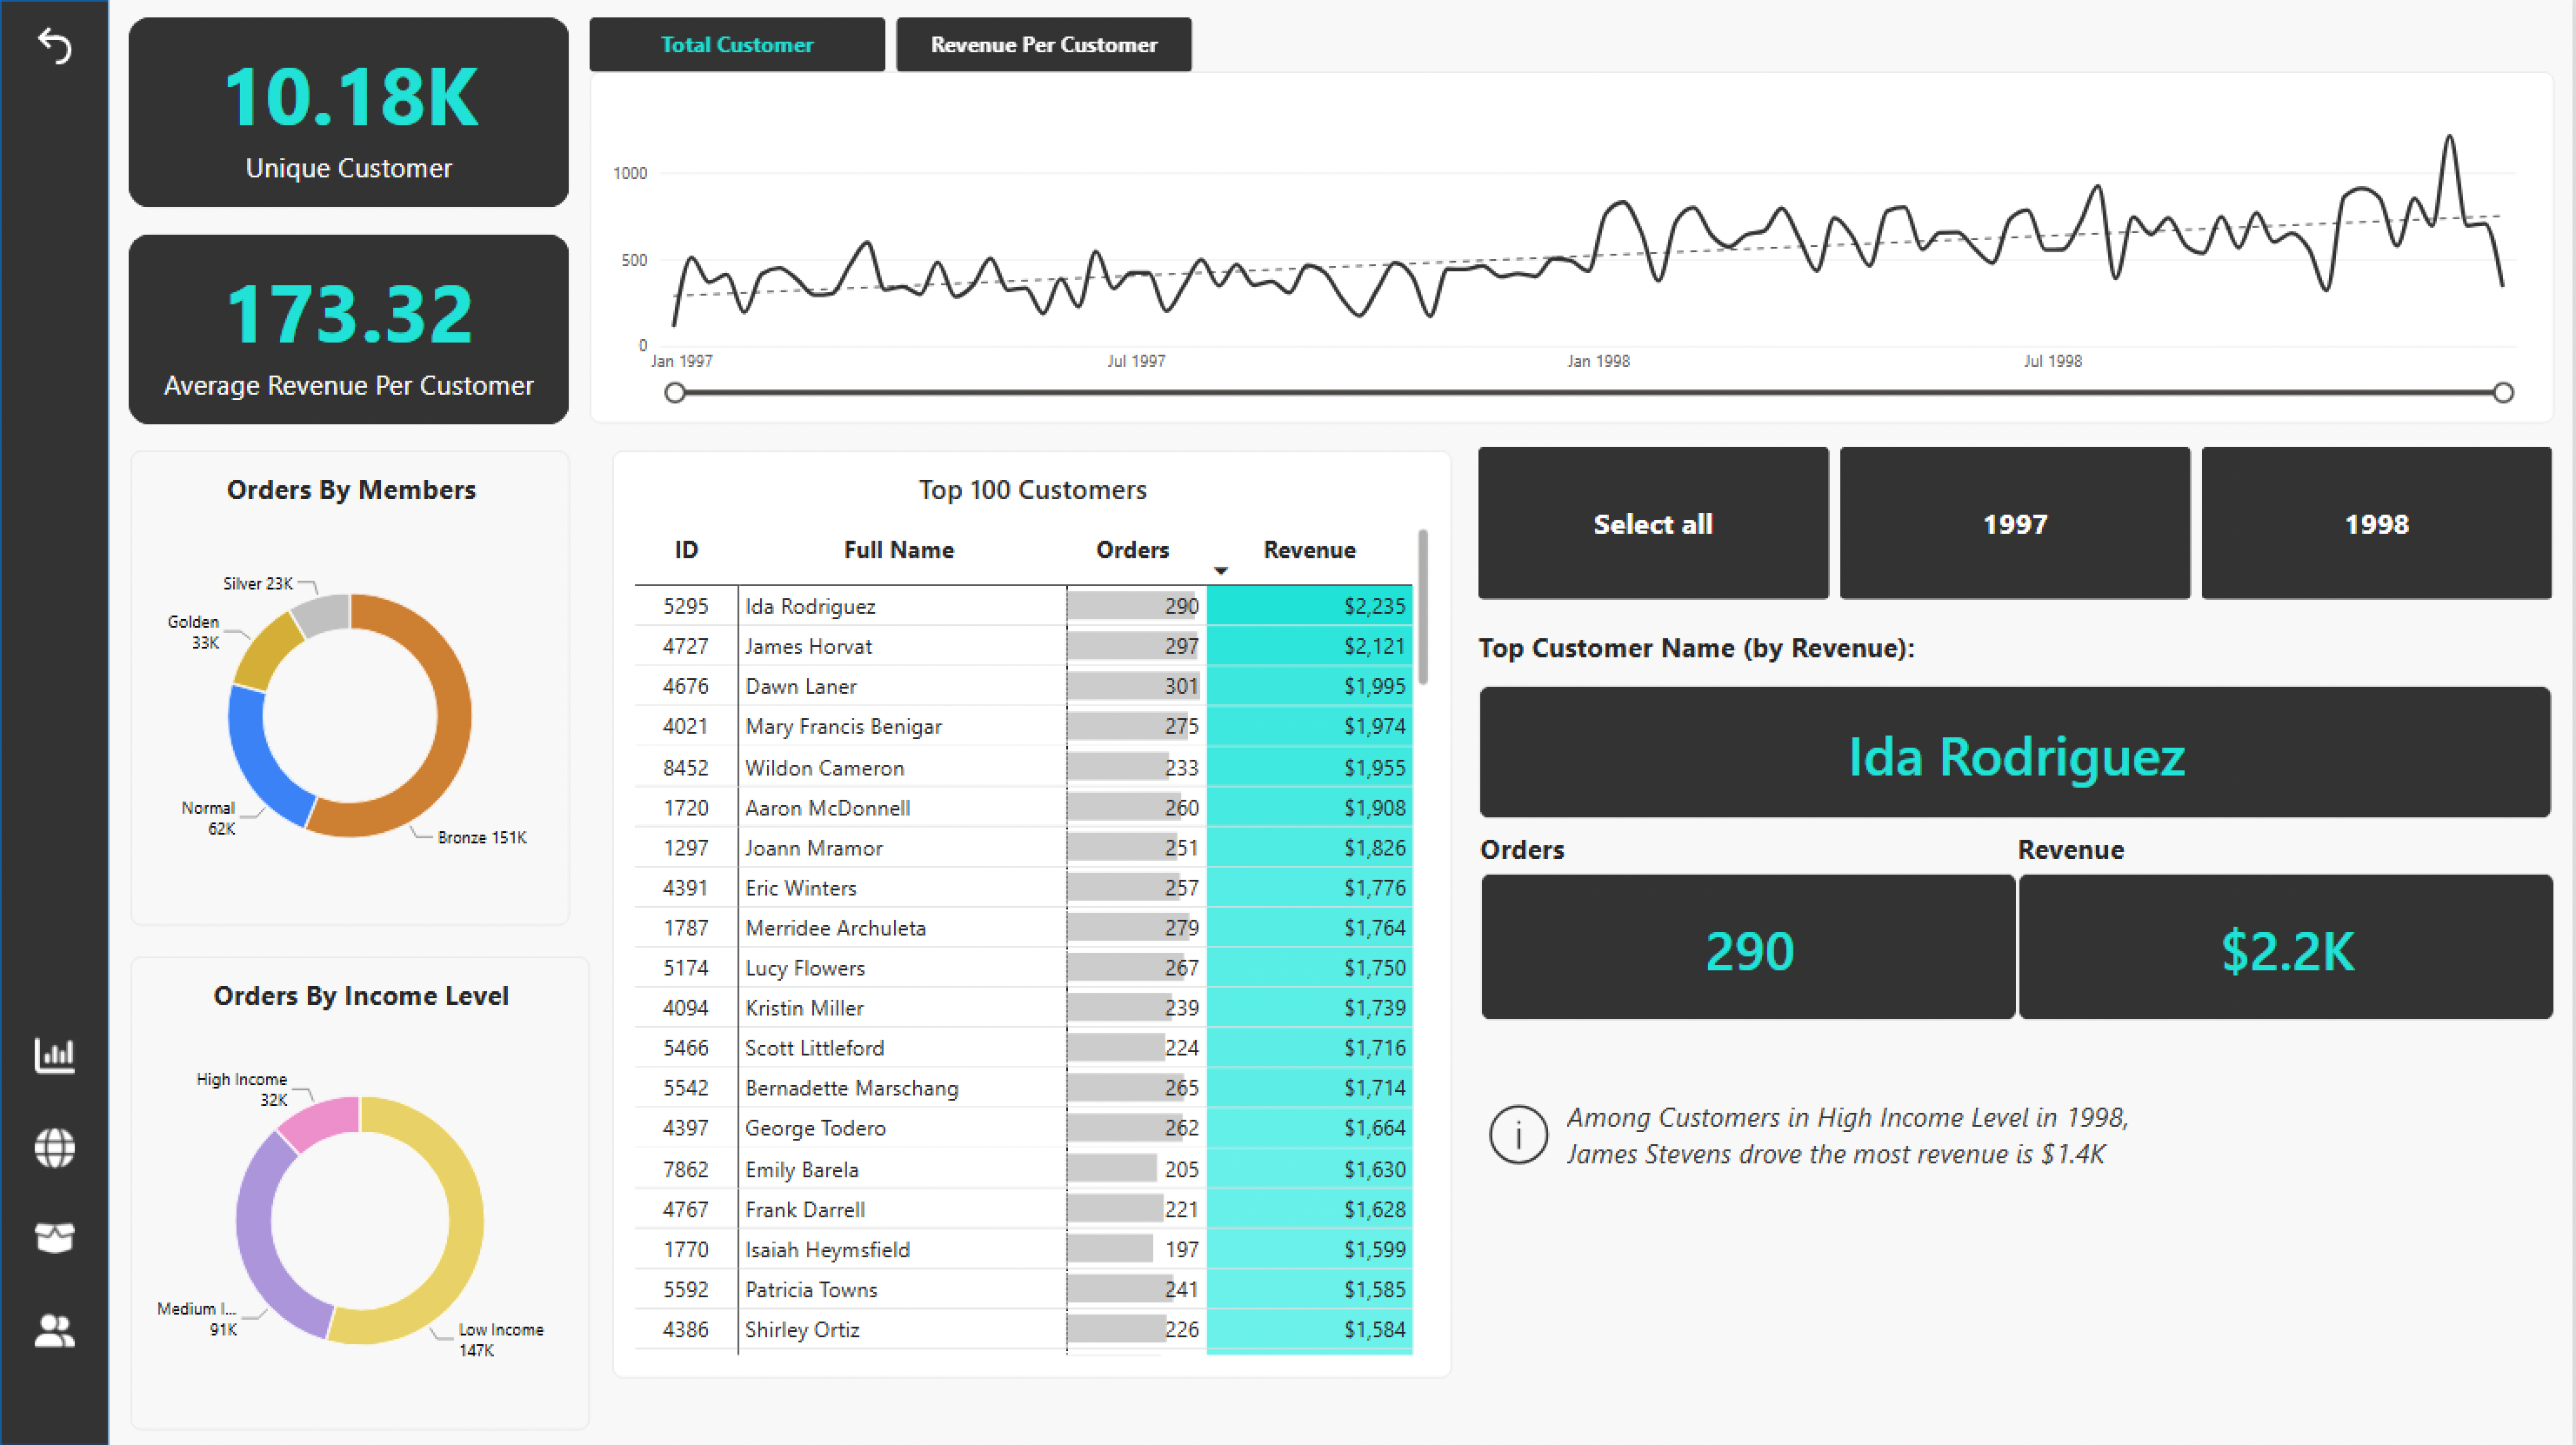

This screenshot's page, from the dashboard's own definition file:
{"tool":"powerbi","page":{"name":"Customer Detail","canvas":[1920,1080],"ordinal":3},"visuals":[{"type":"shape","box":[0,0,81.4,1080],"z":0},{"type":"group","id":"g1","title":"Navigation Pane","box":[0,754.6,81,273.5],"z":1000},{"type":"cardVisual","fields":{"Data":["Measure Table (DAX).Unique Customer","Measure Table (DAX).Average Revenue Per Customer"]},"box":[96,12.5,329.7,304.7],"z":2000},{"type":"actionButton","title":"Customer Detail","box":[0,959.7,81,68.4],"z":2000,"group":"g1"},{"type":"actionButton","title":"Product Detail","box":[0,891.3,81,68.4],"z":2250,"group":"g1"},{"type":"actionButton","title":"Map","box":[0,823,81,68.4],"z":2500,"group":"g1"},{"type":"lineChart","fields":{"Category":["Calendar.Year Hierarchy.Year","Calendar.Year Hierarchy.Quarter","Calendar.Year Hierarchy.Start of Month","Calendar.Year Hierarchy.Start of Week"],"Y":["Measure Table (DAX).Total Customer"]},"box":[440,53.8,1467.2,263.2],"z":3000},{"type":"actionButton","title":"Dashboard","box":[0,754.6,81,68.4],"z":3000,"group":"g1"},{"type":"advancedSlicerVisual","fields":{"Values":["Customer Metric.Customer Metric"]},"box":[440,12.7,451.3,41],"z":4000},{"type":"donutChart","title":"Orders By Members","fields":{"Category":["Customers.member_card"],"Y":["Measure Table (DAX).Total Transactions"]},"box":[97.2,336.2,328.1,355.1],"z":5000},{"type":"donutChart","title":"Orders By Income Level","fields":{"Category":["Customers.Income Level"],"Y":["Measure Table (DAX).Total Transactions"]},"box":[97.2,714.3,343,353.8],"z":6000},{"type":"pivotTable","title":"Top 100 Customers","fields":{"Rows":["Customers.customer_id"],"Values":["Min(Customers.full_name)","Measure Table (DAX).Total Transactions","Measure Table (DAX).Total Revenue"]},"box":[457,335.9,626.5,692.8],"z":7000},{"type":"advancedSlicerVisual","fields":{"Values":["Calendar.Year"]},"box":[1104.5,334.3,802.6,114.7],"z":8000},{"type":"cardVisual","title":"Top Customer Name (by Revenue):","fields":{"Data":["Min(Customers.full_name)"]},"box":[1103.9,468.5,802.6,143.7],"z":9000},{"type":"cardVisual","title":"Orders","fields":{"Data":["Measure Table (DAX).Total Transactions"]},"box":[1105.8,619.7,401,143.1],"z":10000},{"type":"cardVisual","title":"Revenue","fields":{"Data":["Measure Table (DAX).Total Revenue"]},"box":[1506.8,619.7,401,143.1],"z":10001},{"type":"actionButton","box":[1105.8,788.5,527.9,118.8],"z":10002},{"type":"actionButton","box":[0,0,81,67.5],"z":10003}]}

Visuals, with their boxes on the page's 1920x1080 design canvas (x1, y1, x2, y2). These are canvas units, not pixel positions in the 2576x1445 screenshot, which may show the page scaled, cropped or inside an application window:
shape: [0,0,81,1080]
"Navigation Pane" group: [0,755,81,1028]
cardVisual - Measure Table (DAX).Unique Customer x Measure Table (DAX).Average Revenue Per Customer: [96,12,426,317]
"Customer Detail" actionButton: [0,960,81,1028]
"Product Detail" actionButton: [0,891,81,960]
"Map" actionButton: [0,823,81,891]
lineChart - Calendar.Year Hierarchy.Year x Calendar.Year Hierarchy.Quarter: [440,54,1907,317]
"Dashboard" actionButton: [0,755,81,823]
advancedSlicerVisual - Customer Metric.Customer Metric: [440,13,891,54]
"Orders By Members" donutChart: [97,336,425,691]
"Orders By Income Level" donutChart: [97,714,440,1068]
"Top 100 Customers" pivotTable: [457,336,1084,1029]
advancedSlicerVisual - Calendar.Year: [1104,334,1907,449]
"Top Customer Name (by Revenue):" cardVisual: [1104,468,1906,612]
"Orders" cardVisual: [1106,620,1507,763]
"Revenue" cardVisual: [1507,620,1908,763]
actionButton: [1106,788,1634,907]
actionButton: [0,0,81,68]
